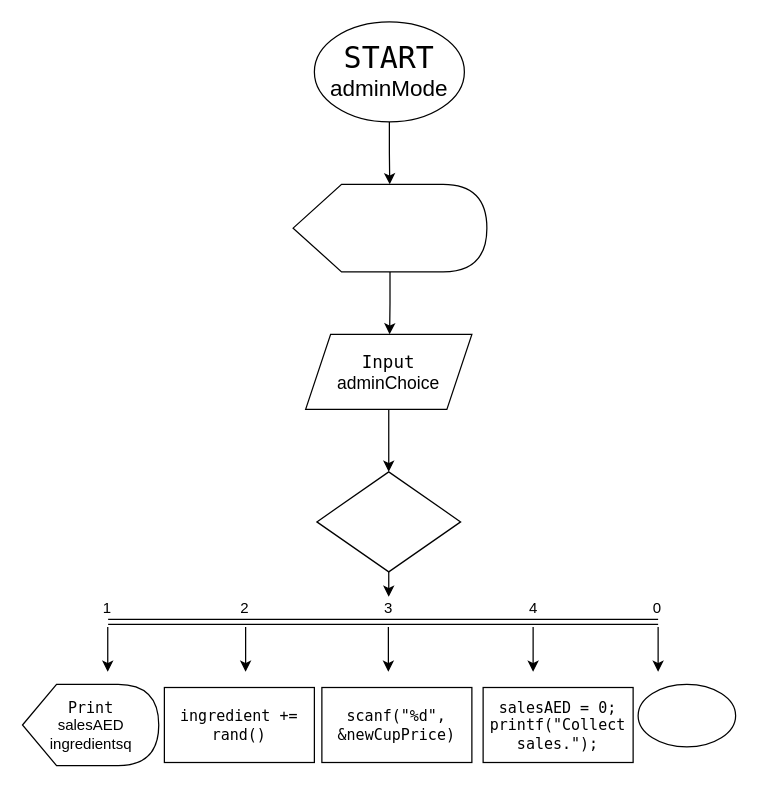
The diagram is 758 pixels wide and 788 high, and some of its shapes have lost their labels. Here are the shapes that lost their labels. From the top down, the centre of each, then its label:
(x=389, y=227): Print Admin Menu
(x=388, y=521): Case adminChoice
(x=686, y=715): END
